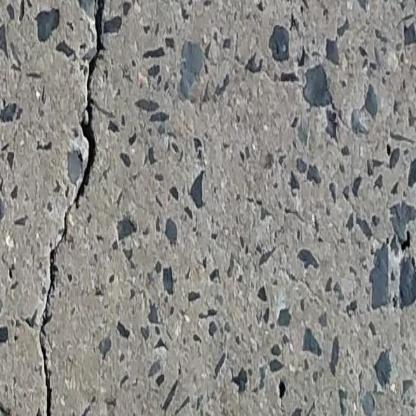Cracks: (36, 0, 109, 416)
